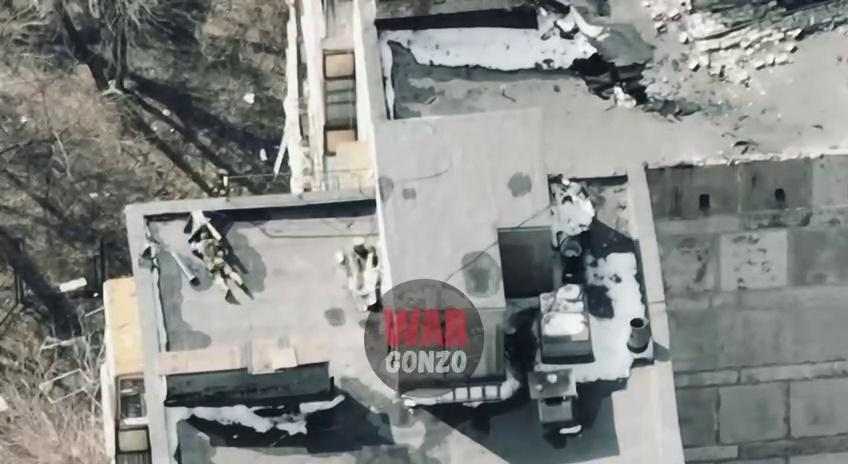person: (190, 232, 245, 300)
